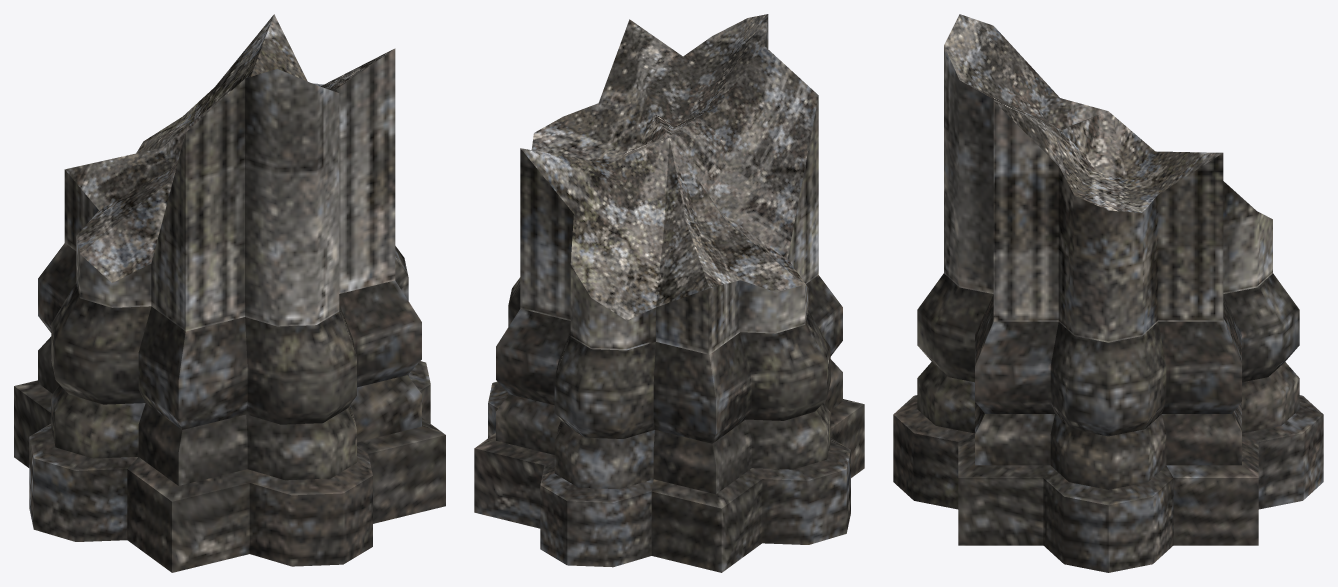
The model's file is column_b_001_crack1.FBX.
The picture shows the model from 3 angles, left to right: view 1: azimuth 30°, elevation 25°; view 2: azimuth 150°, elevation 25°; view 3: azimuth 270°, elevation 25°; orthographic projection. The views are drawn at different scales.
Parts seen in each view (by area): view 1: Ruin_Pillar_02_crash1; view 2: Ruin_Pillar_02_crash1; view 3: Ruin_Pillar_02_crash1.
Part boxes in pixels (x1,y1,x2,y2): Ruin_Pillar_02_crash1: [14, 14, 445, 572]; Ruin_Pillar_02_crash1: [474, 14, 864, 572]; Ruin_Pillar_02_crash1: [893, 14, 1323, 572].
Bounding box in the file's own units: 144 × 168 × 144.
